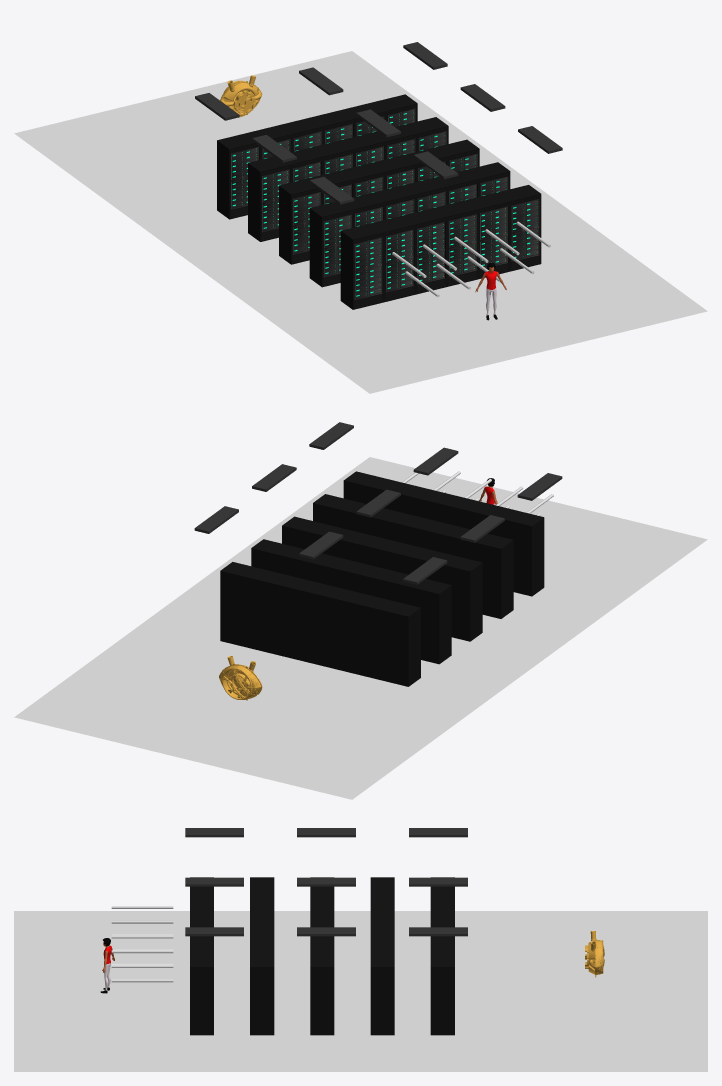
3 views of the same model, one above another, from view 1: azimuth 30°, elevation 25°; view 2: azimuth 150°, elevation 25°; view 3: azimuth 270°, elevation 25° (orthographic). The views are drawn at different scales.
Visible parts, largest first — view 1: Plane, Cluster, LampTeto.003, Rear Case; view 2: Plane, Cluster, LampTeto.003; view 3: Plane, Cluster, LampTeto.003.
Boxes of the visible parts, x1,y1,x2,y2 form: Plane: (14, 51, 707, 393); Cluster: (217, 94, 541, 309); LampTeto.003: (195, 42, 562, 204); Rear Case: (220, 75, 262, 117); Plane: (14, 457, 707, 799); Cluster: (220, 471, 544, 686); LampTeto.003: (194, 422, 562, 584); Plane: (14, 911, 707, 1071); Cluster: (190, 877, 454, 1035); LampTeto.003: (185, 828, 467, 936).
Bounding box in the file's own units: 5.72 × 1.95 × 10.42.
13 materials, 1 textured.
